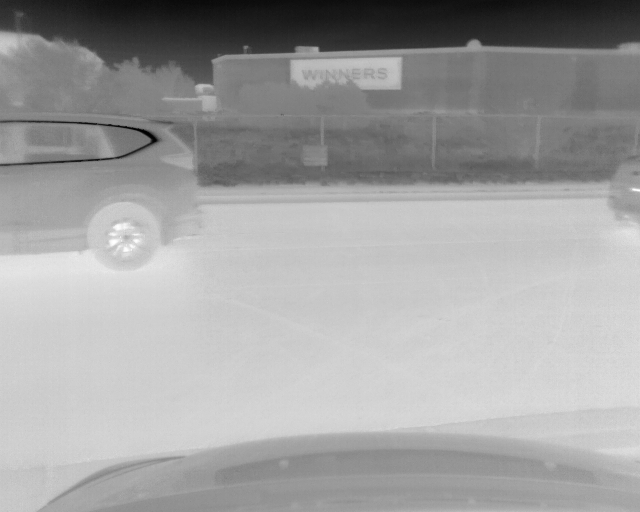car: (1, 113, 205, 270), (605, 155, 640, 227)
